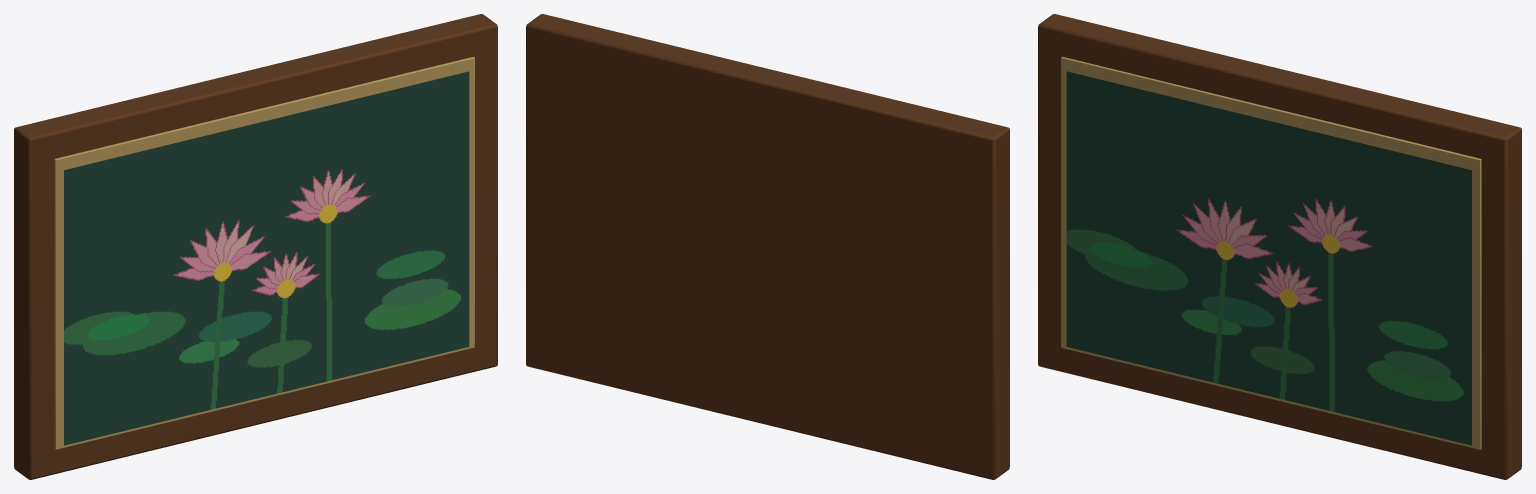
File: TranhHoaSen_Khung.glb
3 views of the same model, side by side, from view 1: azimuth 30°, elevation 25°; view 2: azimuth 150°, elevation 25°; view 3: azimuth 330°, elevation 25° (orthographic).
Parts seen in each view (by area): view 1: TranhHoaSen_Khung; view 2: TranhHoaSen_Khung; view 3: TranhHoaSen_Khung.
Part boxes in pixels (x1,y1,x2,y2): TranhHoaSen_Khung: [14, 14, 497, 479]; TranhHoaSen_Khung: [526, 14, 1009, 479]; TranhHoaSen_Khung: [1038, 14, 1521, 479].
Bounding box in the file's own units: 0.66 × 0.46 × 0.046.
3 materials, 1 textured.
